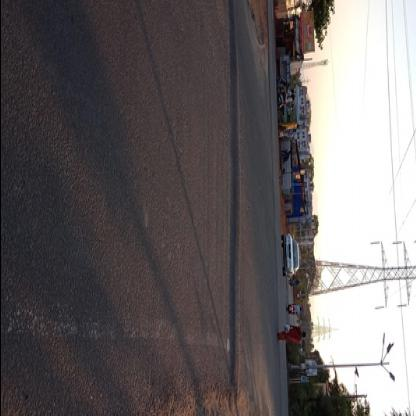speed-bumps: (216, 1, 244, 409)
